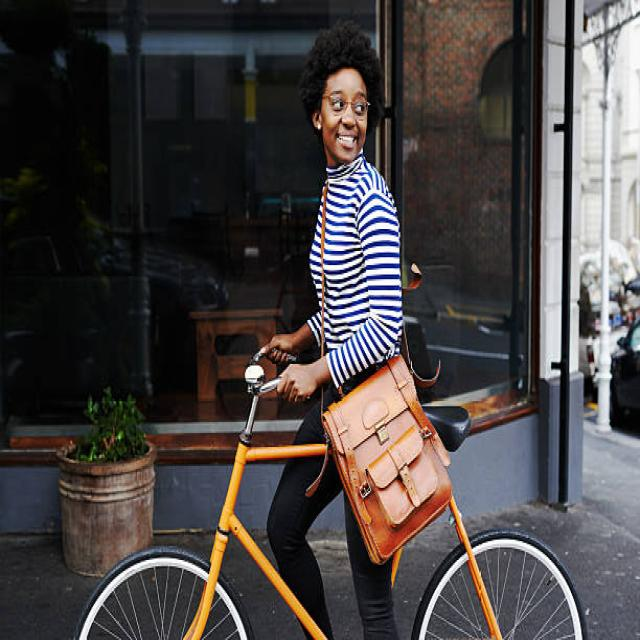bicycle: (76, 22, 585, 639)
